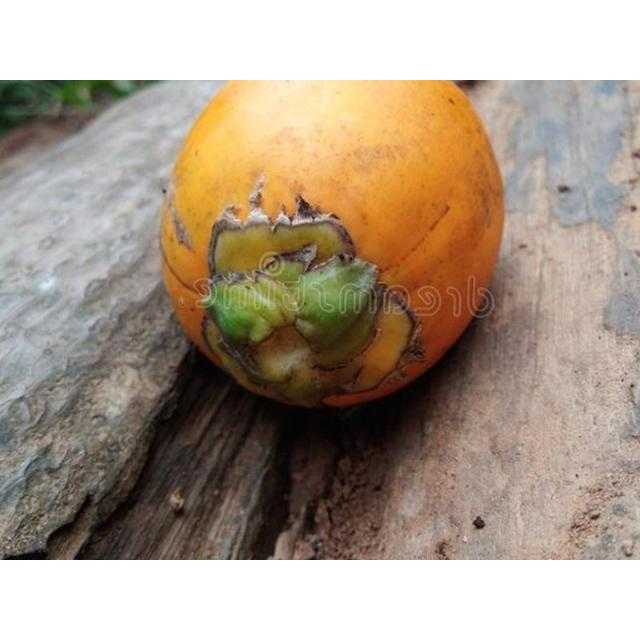good: (160, 80, 505, 411)
